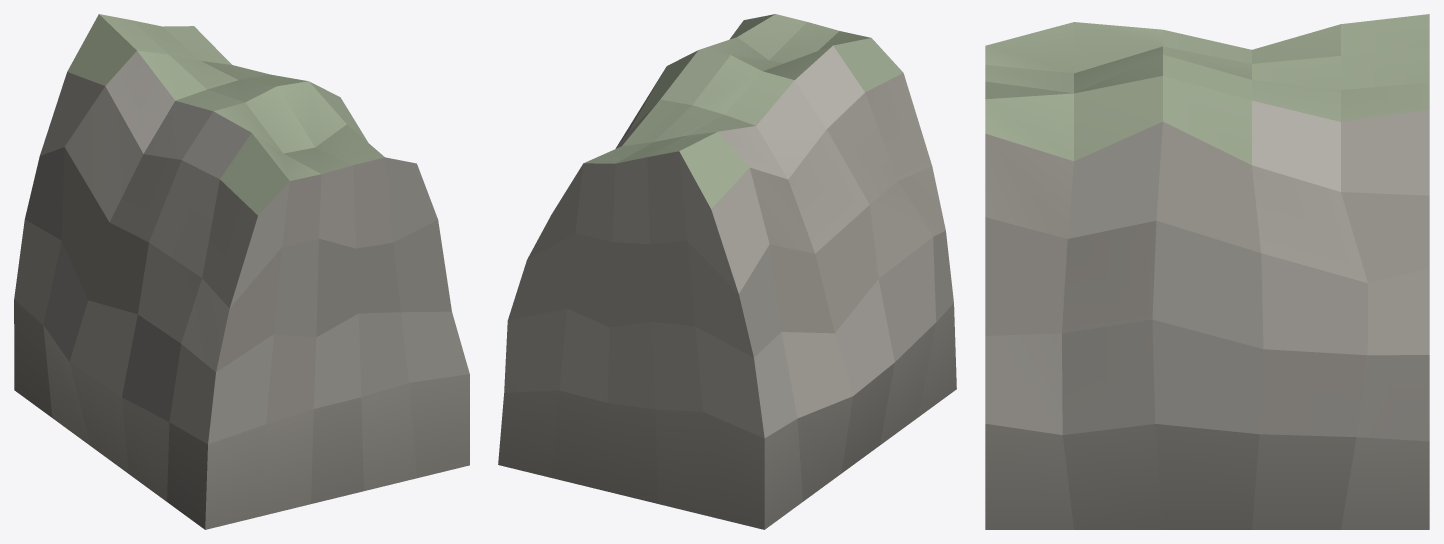
File: roca_recta_3.glb
The picture shows the model from 3 angles, left to right: view 1: azimuth 30°, elevation 25°; view 2: azimuth 150°, elevation 25°; view 3: azimuth 270°, elevation 25°; orthographic projection. The views are drawn at different scales.
Parts seen in each view (by area): view 1: propforge-cuartos-roca_recta; view 2: propforge-cuartos-roca_recta; view 3: propforge-cuartos-roca_recta.
Part boxes in pixels (x1,y1,x2,y2): propforge-cuartos-roca_recta: (14,14,469,529); propforge-cuartos-roca_recta: (498,14,956,529); propforge-cuartos-roca_recta: (985,14,1429,529).
Size of the model in its own units: 0.8714 by 1.03 by 1.
